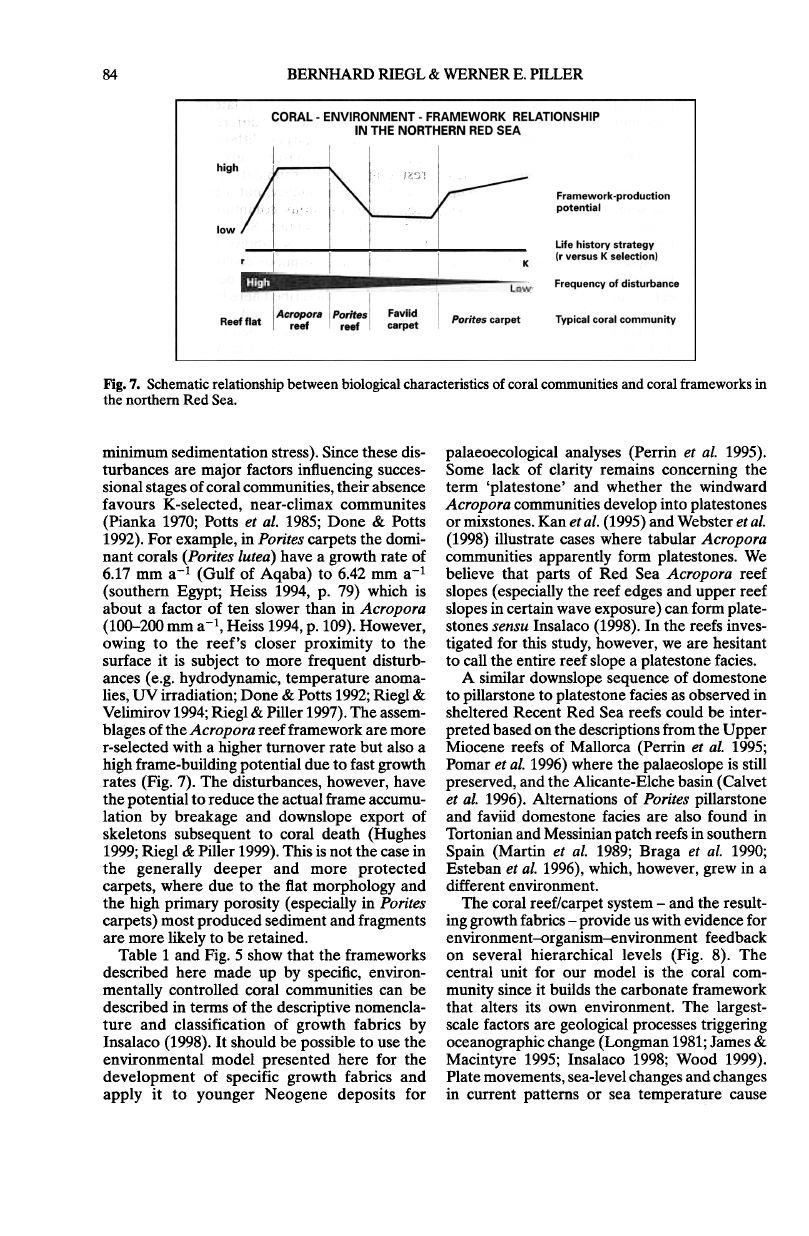figure: (175, 98, 695, 361)
